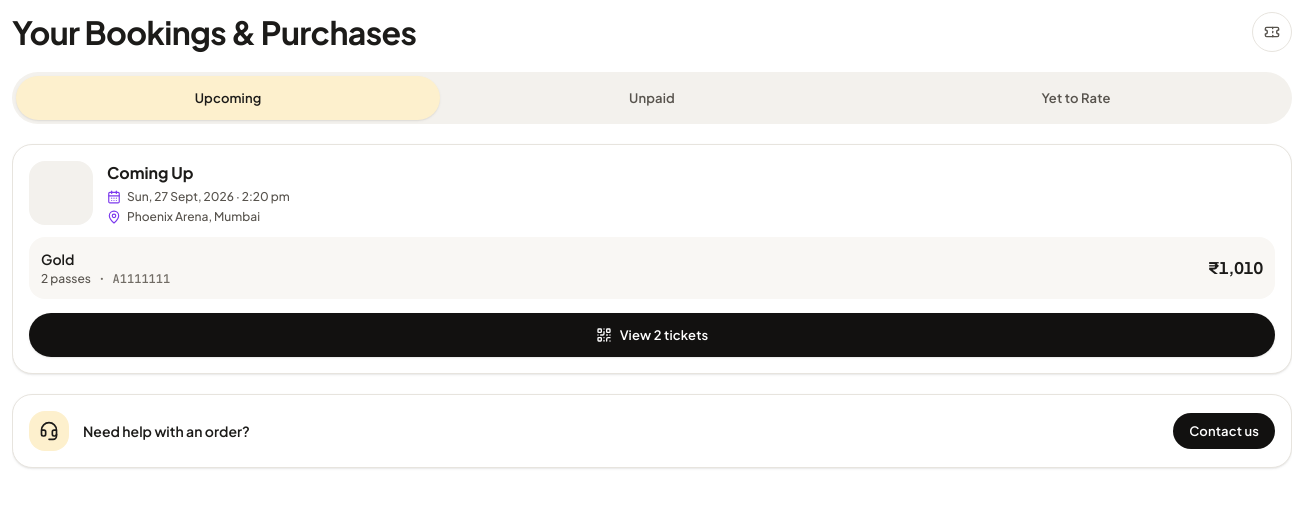
MyBookings › has three views, Upcoming, Unpaid and Yet to Rate, and opens on Upcoming
The image size is (1292, 522).
Expected: the text "Never Paid" is not shown
Step 1. Click the radio button labelled "Unpaid" → (652, 98), box [440,76,864,120]
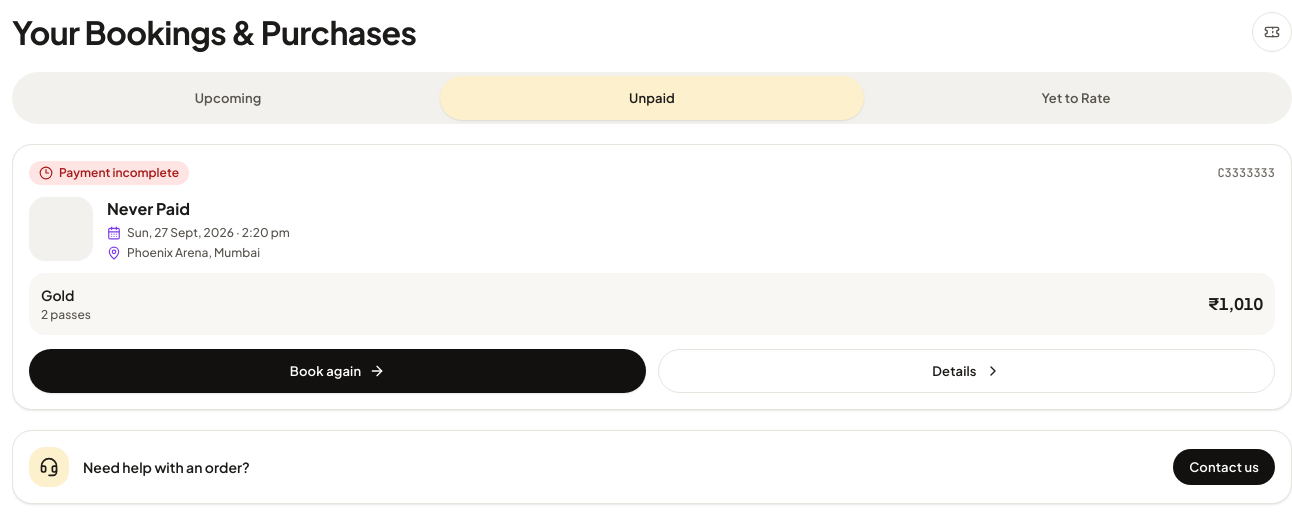
Result: the link "Book again" is shown at [29,349,646,393]
Result: the link "View 2 tickets" is gone
